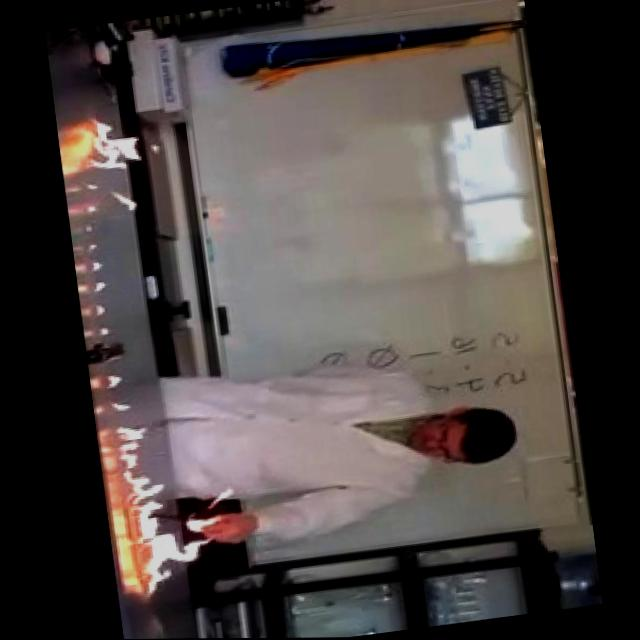helmet: (113, 424, 225, 602), (78, 111, 149, 178)
